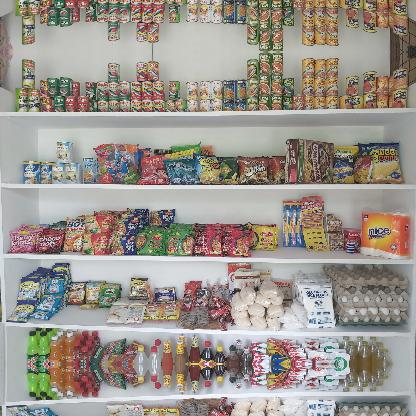Koko-Krunch: (284, 138, 334, 184)
